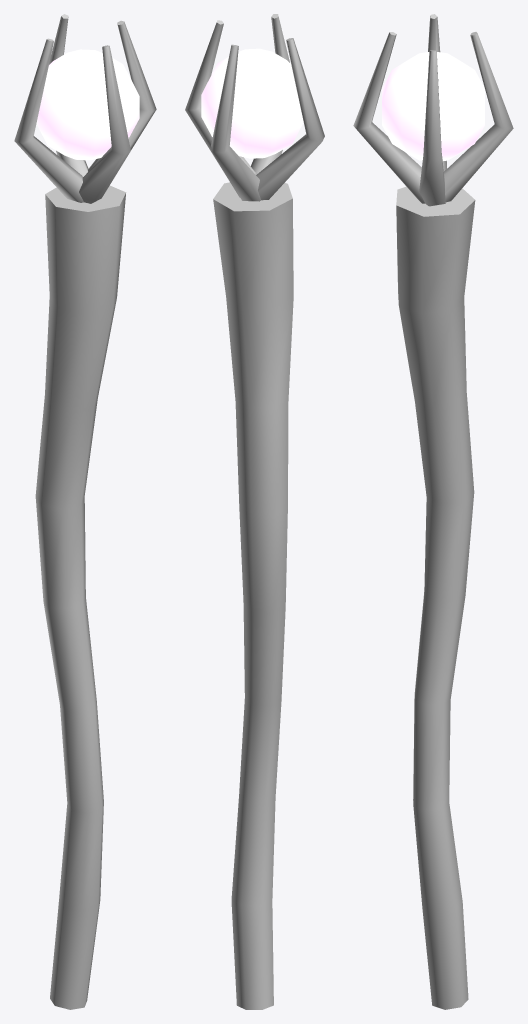
File: W_WitchStaff.fbx
3 views of the same model, side by side, from view 1: azimuth 30°, elevation 25°; view 2: azimuth 150°, elevation 25°; view 3: azimuth 270°, elevation 25° (orthographic).
Parts seen in each view (by area): view 1: W_WitchStaff__bark, W_WitchStaff__glow_potion; view 2: W_WitchStaff__bark, W_WitchStaff__glow_potion; view 3: W_WitchStaff__bark, W_WitchStaff__glow_potion.
Part boxes in pixels (<box>): W_WitchStaff__bark: <box>14,14,156,1009</box>; W_WitchStaff__glow_potion: <box>36,49,139,160</box>; W_WitchStaff__bark: <box>185,14,324,1009</box>; W_WitchStaff__glow_potion: <box>201,48,303,158</box>; W_WitchStaff__bark: <box>353,14,513,1009</box>; W_WitchStaff__glow_potion: <box>382,52,484,160</box>.
Bounding box in the file's own units: 1.59 × 10.63 × 1.59.
